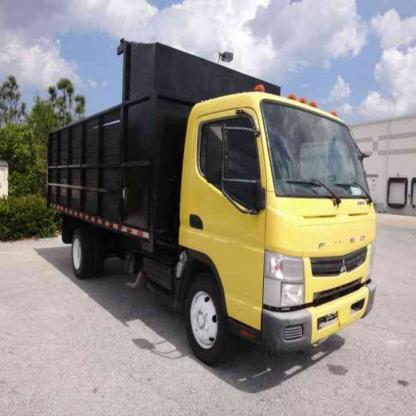truck: (48, 39, 377, 367)
